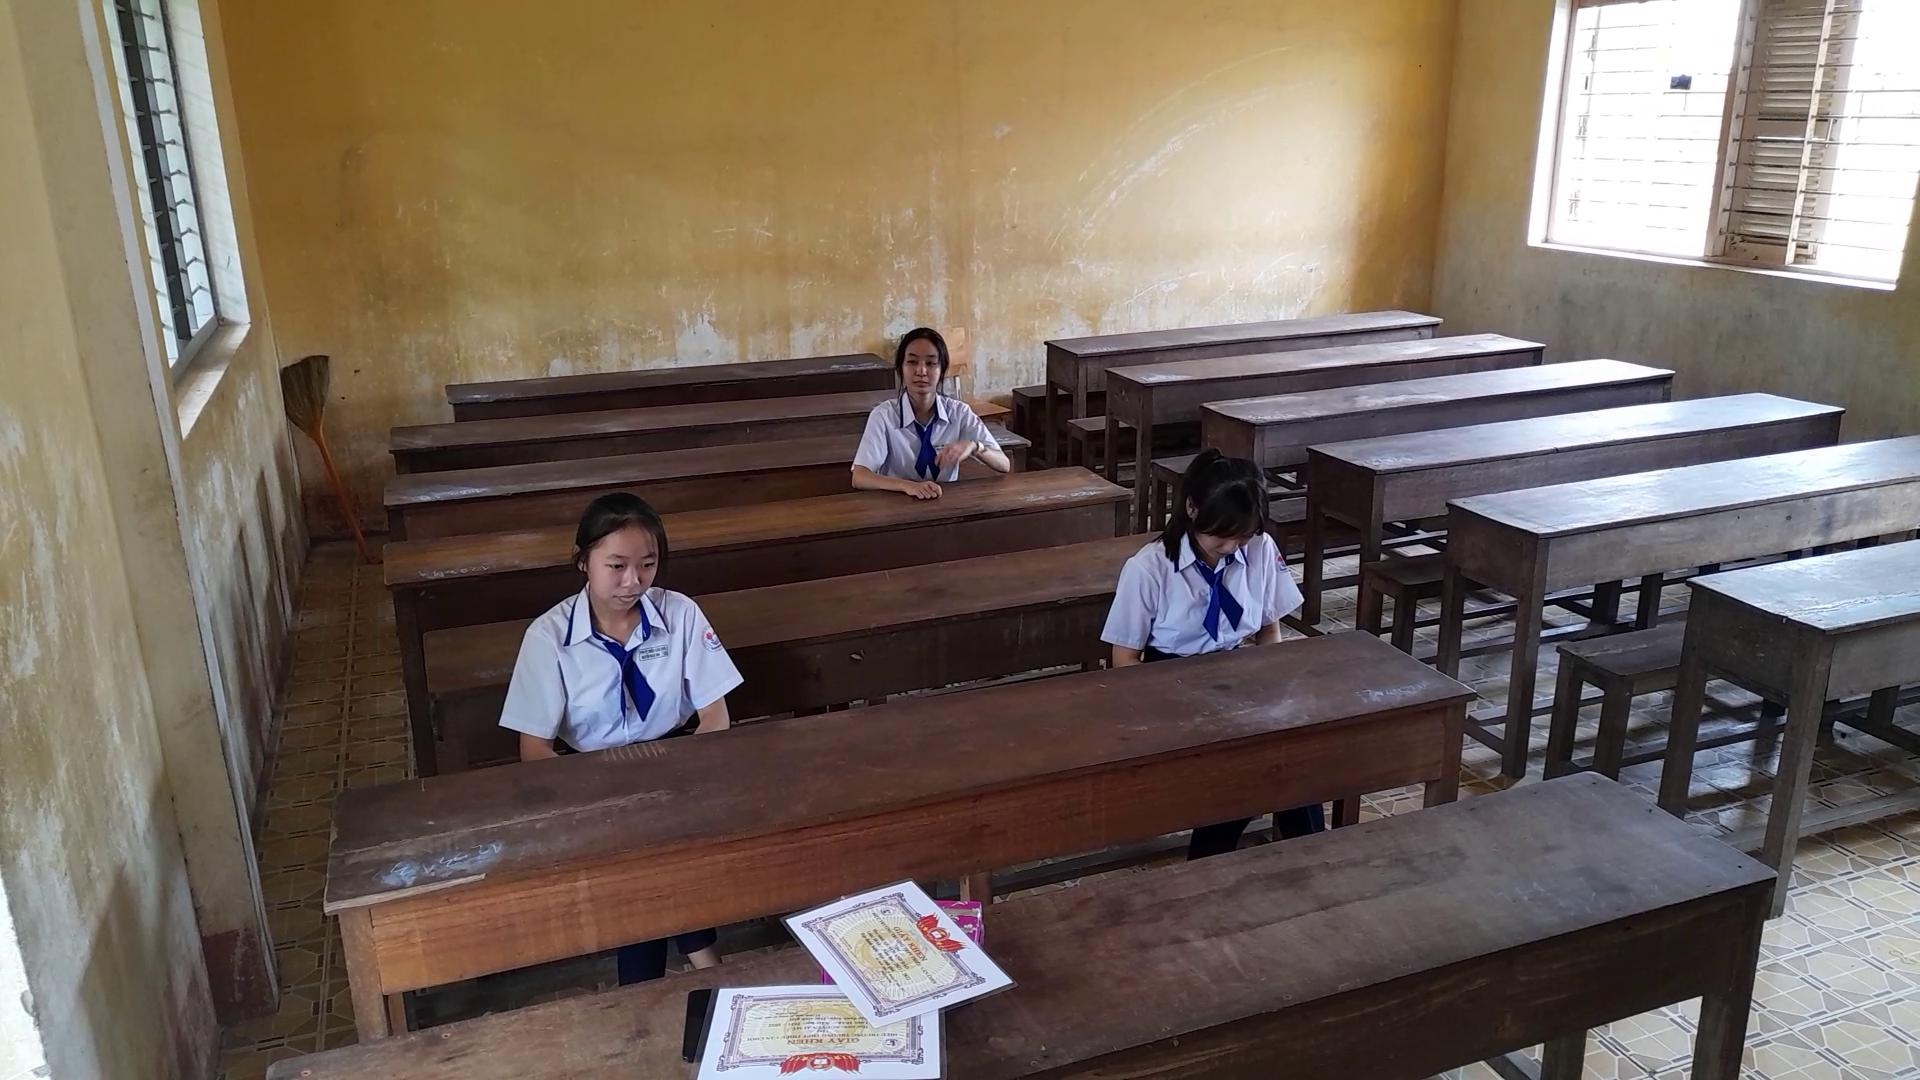Bend Over The Desk: (1151, 436, 1275, 568)
Hand Under Table: (663, 589, 733, 740), (500, 624, 570, 774), (1236, 535, 1290, 658), (1100, 551, 1154, 673)
Normal: (833, 323, 1022, 505)
